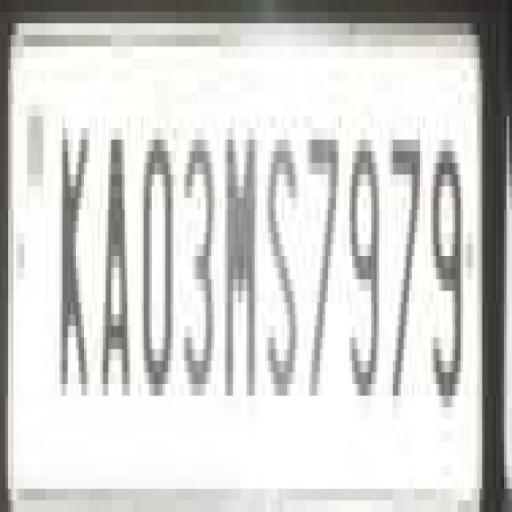number plate: (0, 11, 495, 512)
